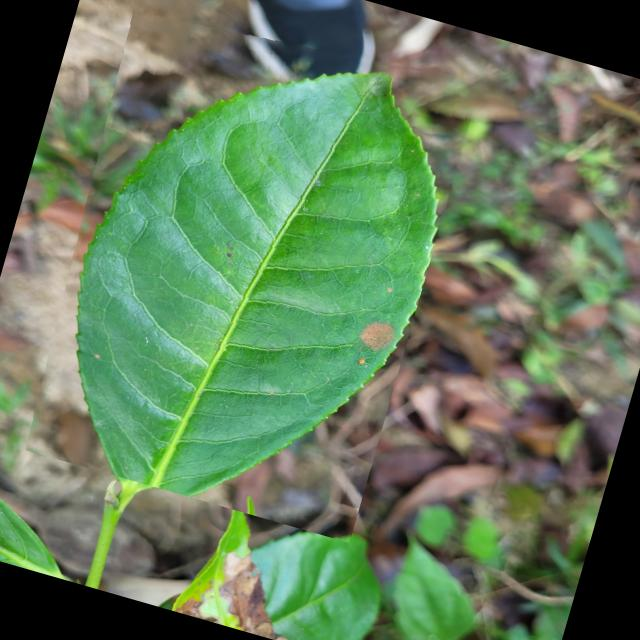Category D 7+ days, Not for Tea: (8, 0, 480, 542)
